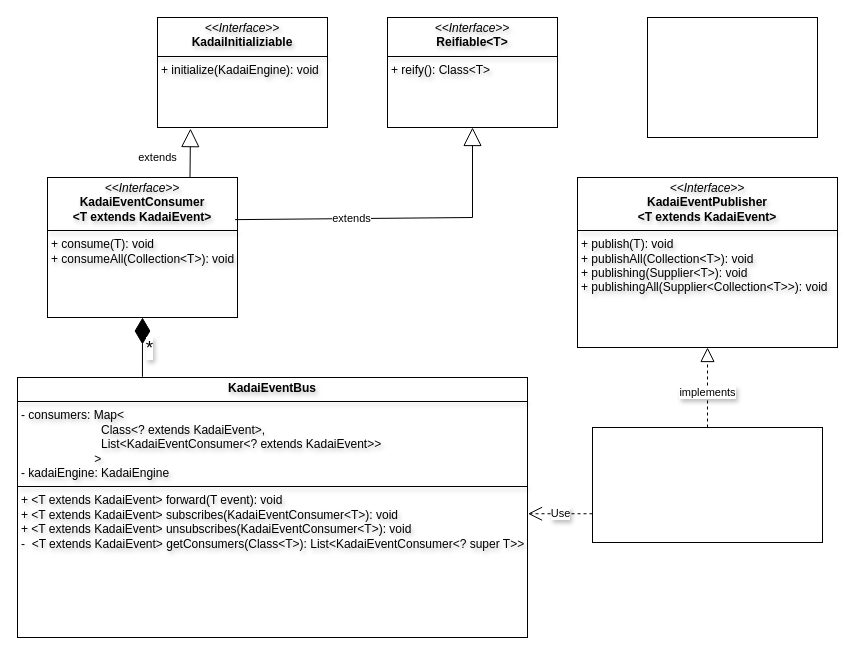
The diagram is 855 pixels wide and 655 high, and some of its shapes have lost their labels. The shapes that lost their labels are listed below. From the top down, each one's box as (x1, y1, x2, y2) in pixels, then its label:
(646, 16, 818, 138): <<Interface>> KadaiEvent + getCreated(): Instant + setCreated(): Instant
(592, 426, 822, 542): SimpleKadaiEventPublisher <T extends KadaiEvent> - kadaiEventBus: KadaiEventBus
